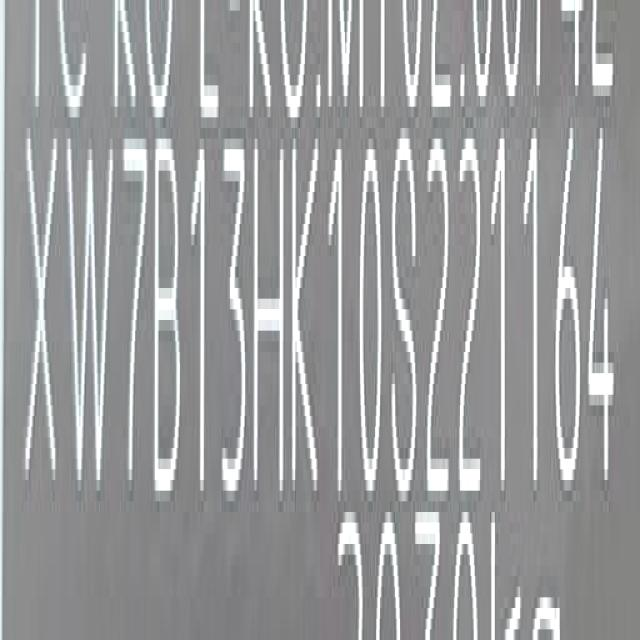0: (356, 132, 385, 497)
1: (487, 110, 510, 518), (524, 121, 546, 506), (191, 133, 211, 512), (329, 126, 347, 505)
2: (454, 126, 483, 508), (425, 125, 453, 506)
3: (218, 135, 248, 511)
4: (587, 112, 617, 497)
6: (554, 122, 586, 502)
7: (120, 134, 150, 509)
B: (153, 136, 184, 512)
H: (252, 134, 286, 511)
K: (289, 122, 321, 500)
S: (388, 138, 421, 498)
W: (66, 130, 116, 509)
X: (23, 128, 60, 508)
